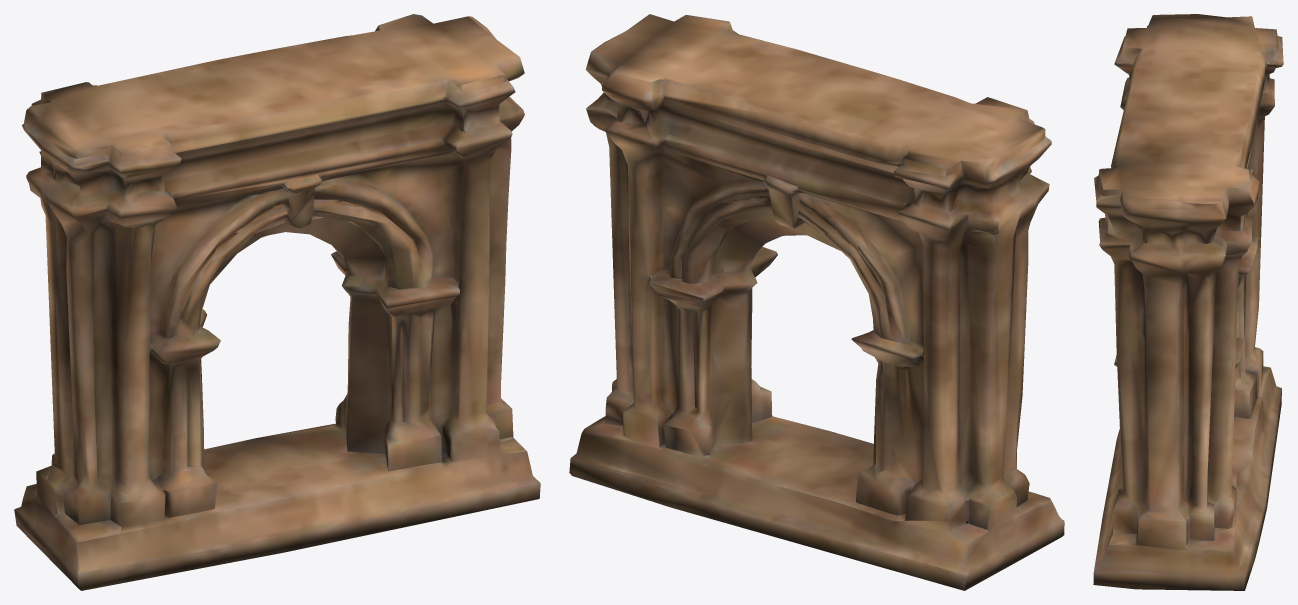
The model's file is ornate-sandstone-street-arch-v001.glb.
The picture shows the model from 3 angles, left to right: view 1: azimuth 30°, elevation 25°; view 2: azimuth 150°, elevation 25°; view 3: azimuth 270°, elevation 25°; orthographic projection. The views are drawn at different scales.
Parts seen in each view (by area): view 1: ornate-sandstone-street-arch; view 2: ornate-sandstone-street-arch; view 3: ornate-sandstone-street-arch.
Part boxes in pixels (bbox=[...]): ornate-sandstone-street-arch: bbox=[14, 14, 540, 590]; ornate-sandstone-street-arch: bbox=[569, 14, 1064, 590]; ornate-sandstone-street-arch: bbox=[1093, 14, 1283, 590].
Size of the model in its own units: 3.57 by 3.26 by 1.45.
Materials: 1 (1 with a texture image).
